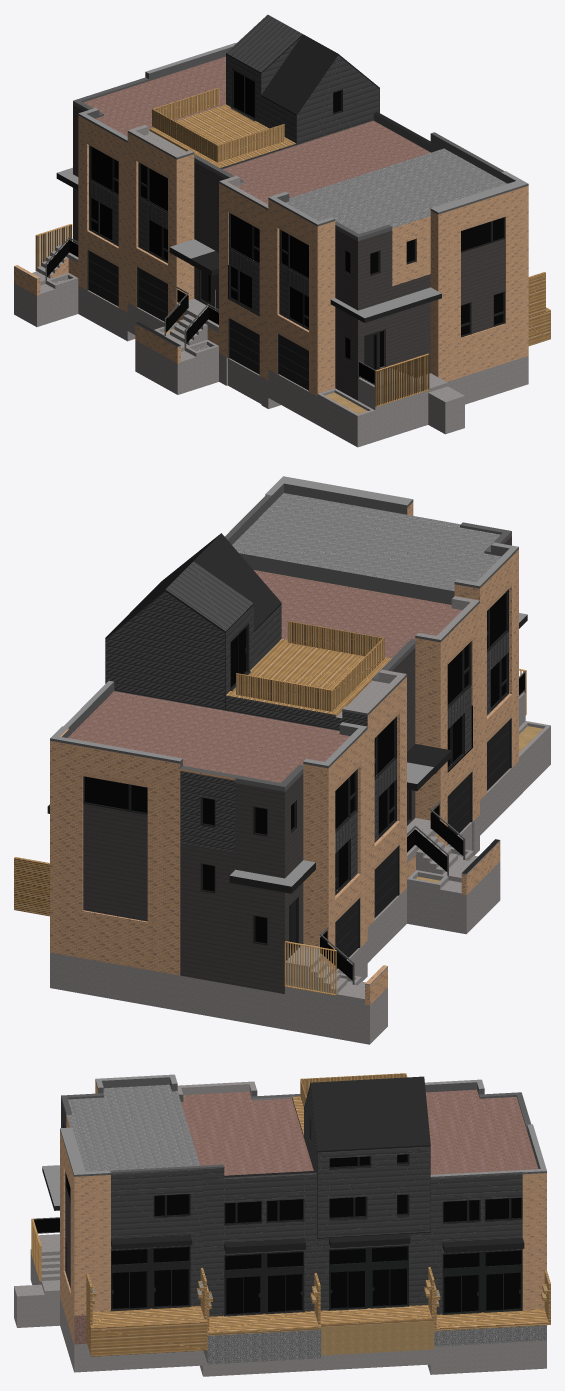
The model's file is Houses4.FBX.
3 renders of one model, top to bottom at view 1: azimuth 30°, elevation 25°; view 2: azimuth 150°, elevation 25°; view 3: azimuth 270°, elevation 25°, orthographic. The views are drawn at different scales.
Parts seen in each view (by area): view 1: Mesh26, Mesh14, Mesh22, Mesh03, fen_9pi_01, Mesh08, Group362, fen_8pi402, fen_9pi_4p, Frame_2_5, Group_81_1, Garde_co02 (+1 smaller); view 2: Mesh03, Mesh14, Mesh26, Mesh22, fen_9pi_4p, Group362, fen_8pi402, Mesh08, fen_9pi_01, Group_46_1, Frame_2_5, Garde_co01 (+2 smaller); view 3: Mesh26, Mesh14, Mesh22, Mesh03, Frame_2_6, Frame_2_2, Frame_1_1, Frame_2_4, fen_8pi402, fen_9pi_4p, Mesh08, fen_9pi_01 (+5 smaller).
Part boxes in pixels (x1,y1,x2,y2): Mesh26: (268,139,550,447); Mesh14: (127,14,379,382); Mesh22: (156,112,447,408); Mesh03: (14,43,236,341); fen_9pi_01: (277,217,504,390); Mesh08: (136,89,342,321); Group362: (152,87,284,162); fen_8pi402: (228,212,259,374); fen_9pi_4p: (87,145,118,306); Frame_2_5: (230,68,255,121); Group_81_1: (528,272,545,316); Garde_co02: (184,304,218,347); Mesh03: (14,680,387,1044); Mesh14: (105,533,483,962); Mesh26: (225,476,550,835); Mesh22: (253,570,500,916); fen_9pi_4p: (83,769,360,969); Group362: (236,621,384,711); fen_8pi402: (407,641,472,844); Mesh08: (374,716,399,917); fen_9pi_01: (487,589,511,790); Group_46_1: (14,857,49,912); Frame_2_5: (230,623,250,690); Garde_co01: (407,825,448,880); Mesh26: (14,1074,207,1372); Mesh14: (291,1076,434,1370); Mesh22: (177,1081,321,1376); Mesh03: (425,1079,550,1374); Frame_2_6: (224,1272,304,1316); Frame_2_2: (442,1271,522,1314); Frame_1_1: (110,1267,191,1311); Frame_2_4: (328,1267,409,1310); fen_8pi402: (224,1198,304,1225); fen_9pi_4p: (442,1197,522,1223); Mesh08: (309,1117,408,1219); fen_9pi_01: (63,1122,190,1288).
Bounding box in the file's own units: 712 × 593 × 1040.
26 materials, 19 textured.
